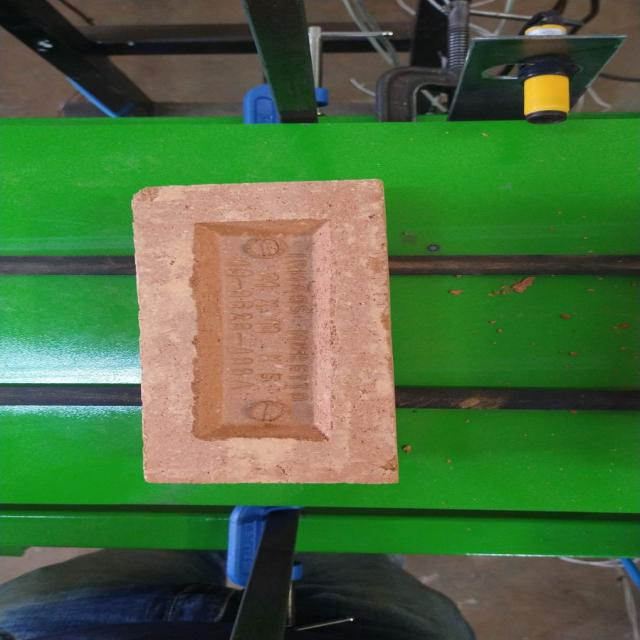bricks: (134, 178, 394, 483)
